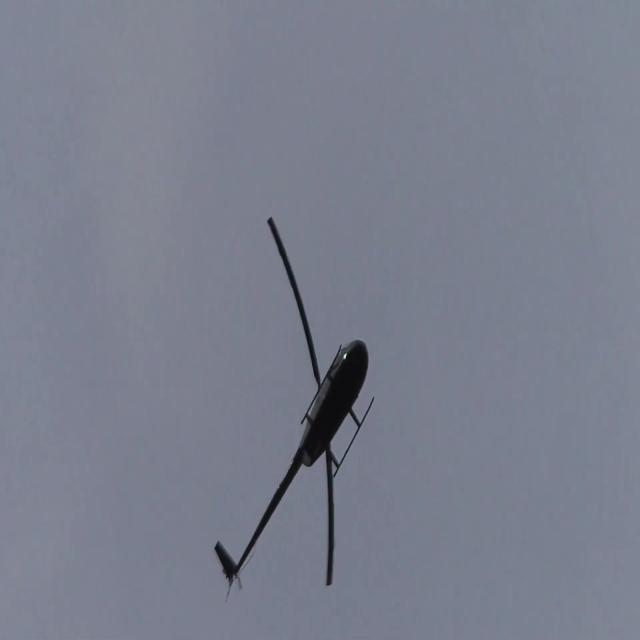CIV_HELO: (214, 338, 375, 583)
